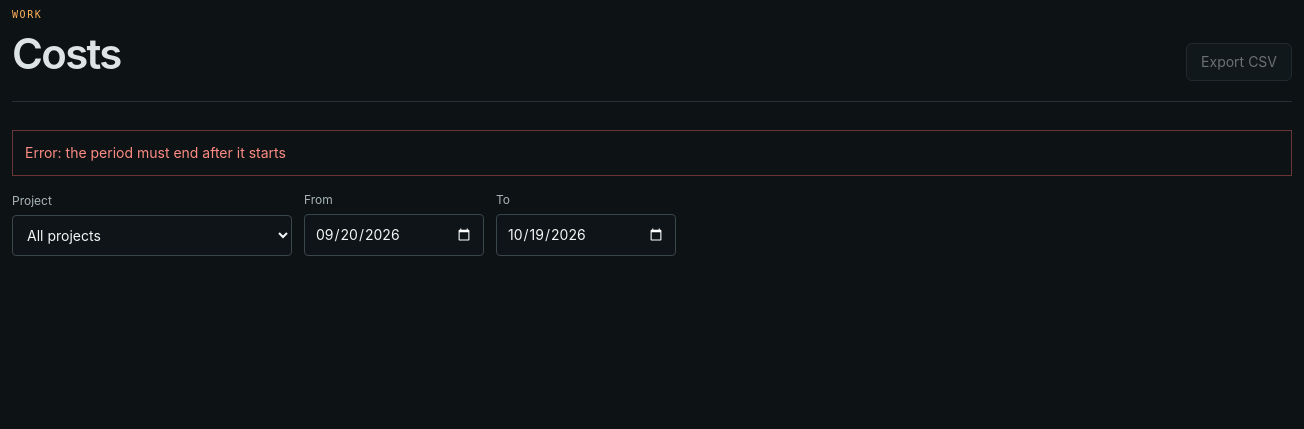
Test: CostsView › shows Go's reason for a range it refuses, and an empty range as empty
Check: the message shows "the period must end after it starts", box [25,144,286,160]
Step 1. Type "2026-10-01" into the date field labelled "From" → [394, 234], box [304,214,484,256]
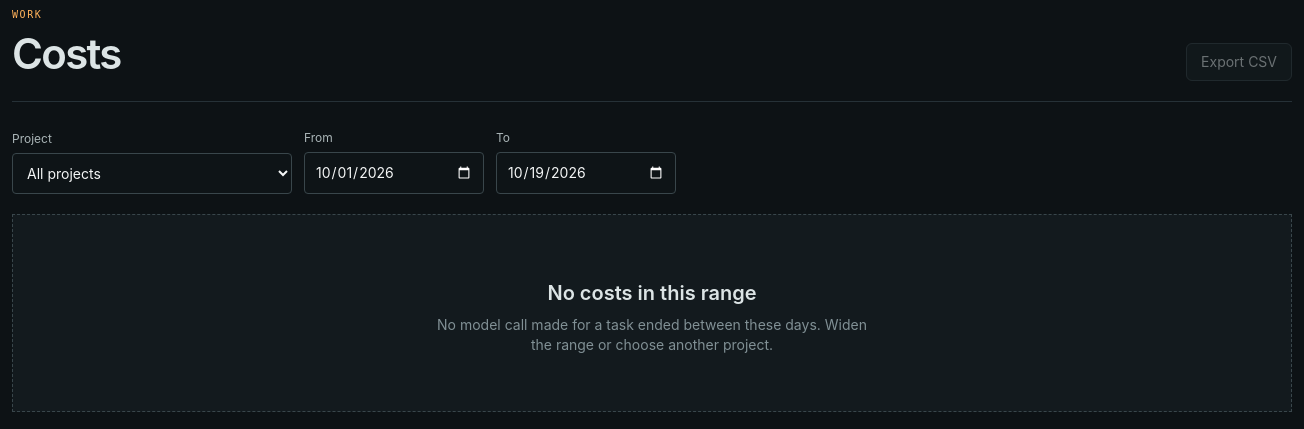
Check: the button "Export CSV" is disabled, box [1186,42,1292,80]
Check: the heading "No costs in this range" is shown, box [548,280,757,304]
Check: the message "Error: the period must end after it starts" is gone
